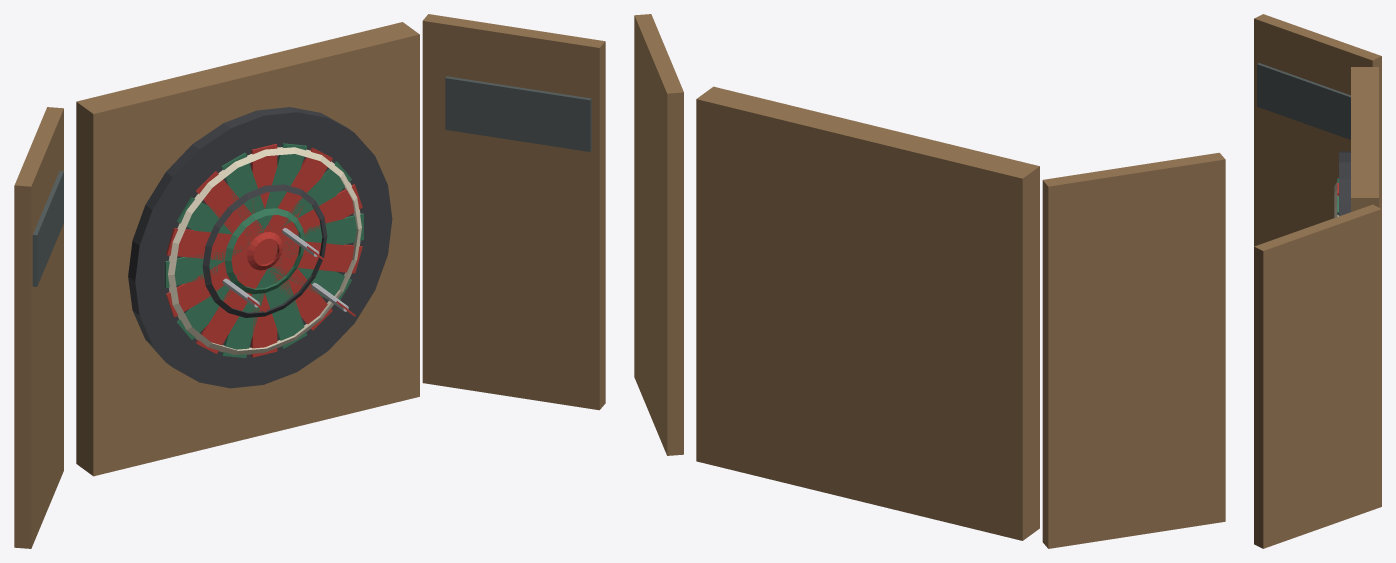
File: dartboard.glb
3 renders of one model, left to right at view 1: azimuth 30°, elevation 25°; view 2: azimuth 150°, elevation 25°; view 3: azimuth 270°, elevation 25°, orthographic. The views are drawn at different scales.
Visible parts, largest first — view 1: dartboard; view 2: dartboard; view 3: dartboard.
Part boxes in pixels (x1,y1,x2,y2): dartboard: [14, 14, 605, 548]; dartboard: [634, 14, 1225, 548]; dartboard: [1254, 14, 1381, 548].
Bounding box in the file's own units: 1.2 × 0.7 × 0.2721.
